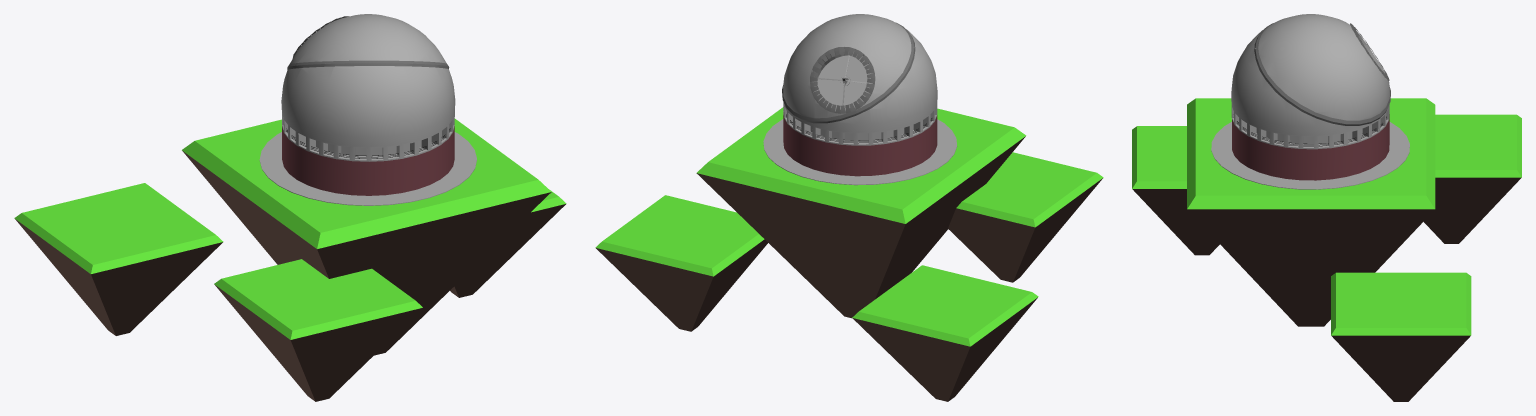
Rendered from optical.glb.
The picture shows the model from 3 angles, left to right: view 1: azimuth 30°, elevation 25°; view 2: azimuth 150°, elevation 25°; view 3: azimuth 270°, elevation 25°; orthographic projection. The views are drawn at different scales.
Visible parts, largest first — view 1: Optical; view 2: Optical; view 3: Optical.
Boxes of the visible parts, x1=… form: Optical: x1=14, y1=14, x2=566, y2=401; Optical: x1=595, y1=14, x2=1103, y2=401; Optical: x1=1132, y1=14, x2=1521, y2=401.
Size of the model in its own units: 14.4 by 10.52 by 11.84.
